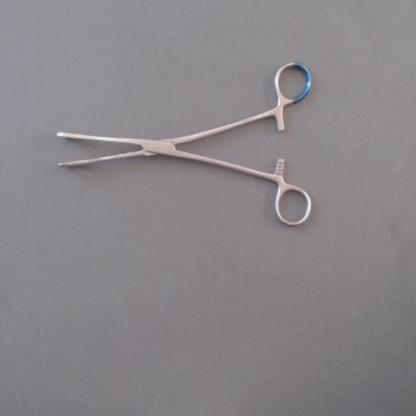Sponge Forceps: (45, 51, 319, 235)
